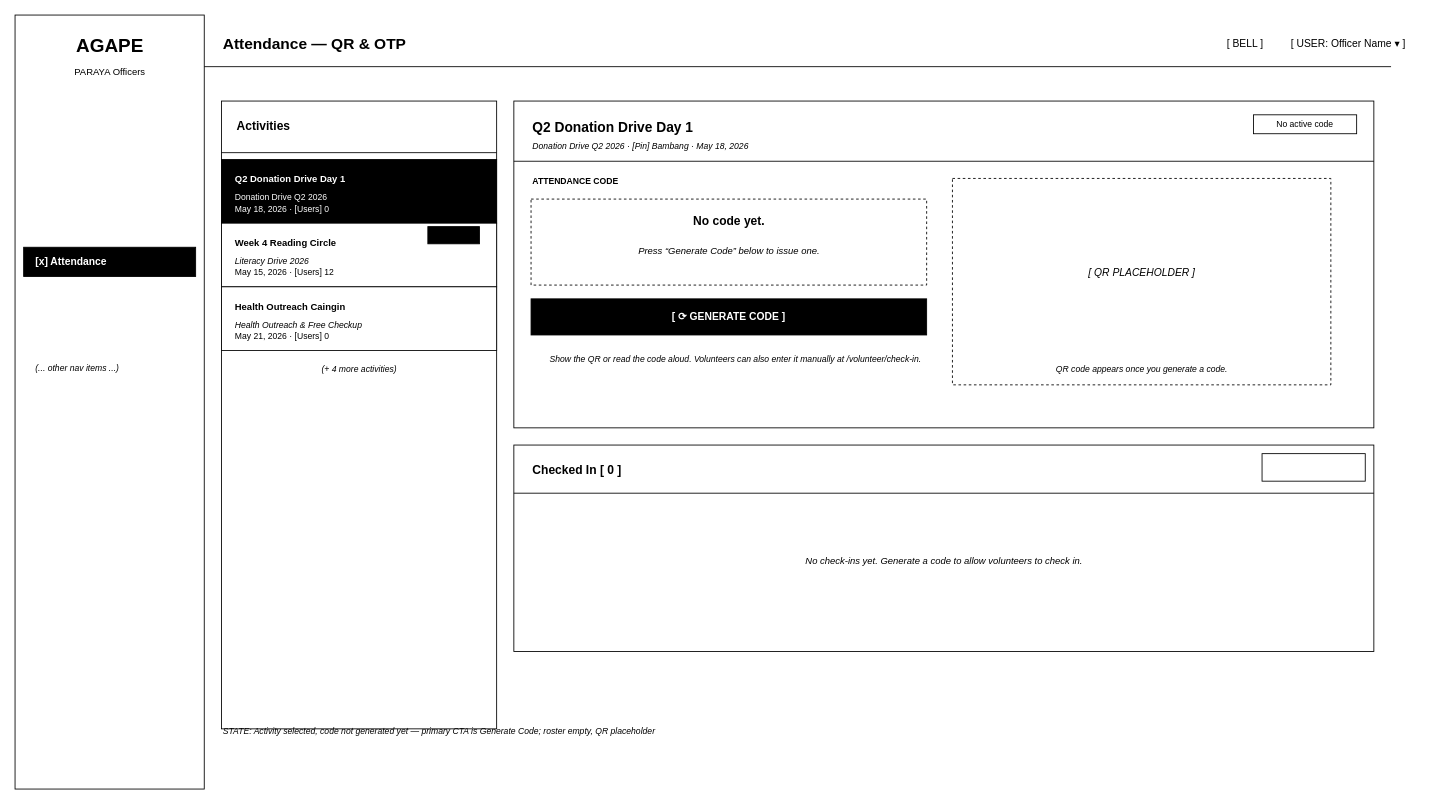
Image size: 1441x804. Some labels were removed from this diagram. The box of each missing label's shape, as (x1, y1, x2, y2) in pixels:
( Live ): (427, 226, 479, 244)
[ ⟳ Refresh ]: (1261, 453, 1365, 481)
